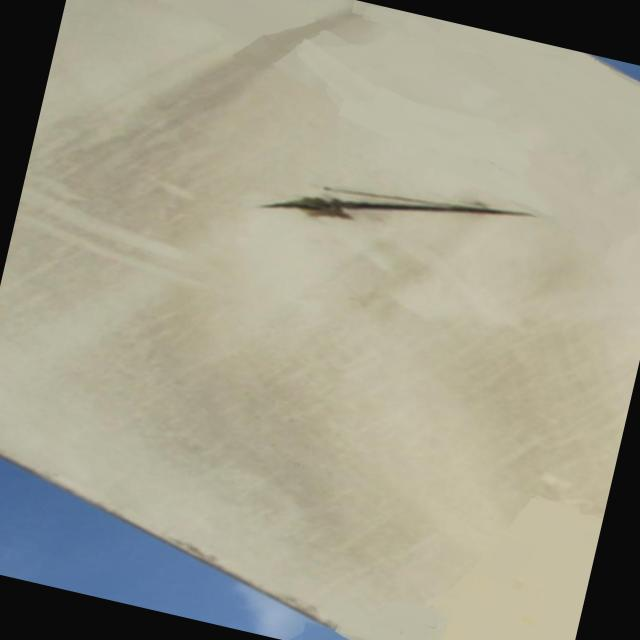crack: (257, 152, 533, 272)
